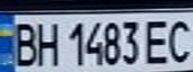1: (63, 18, 84, 66)
3: (121, 17, 145, 66)
4: (84, 18, 106, 66)
8: (103, 18, 124, 66)
B: (6, 18, 42, 68)
C: (163, 15, 193, 65)
E: (142, 16, 175, 65)
H: (33, 18, 60, 68)
